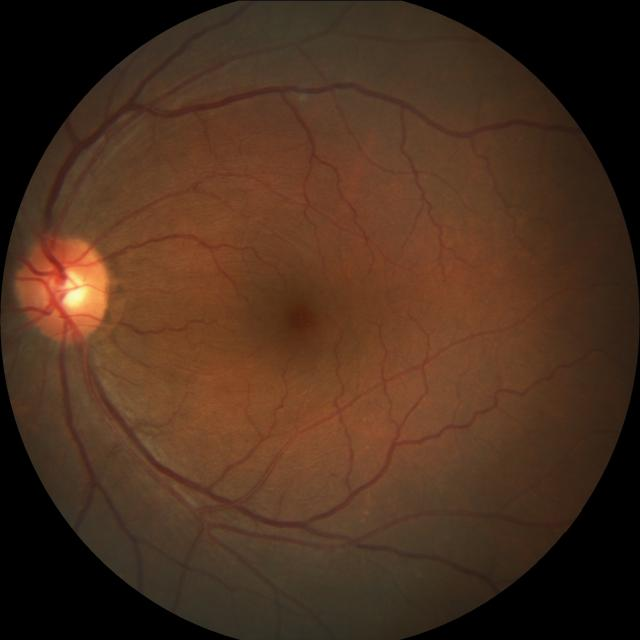OC: (42, 266, 88, 313)
OD: (15, 232, 109, 341)
